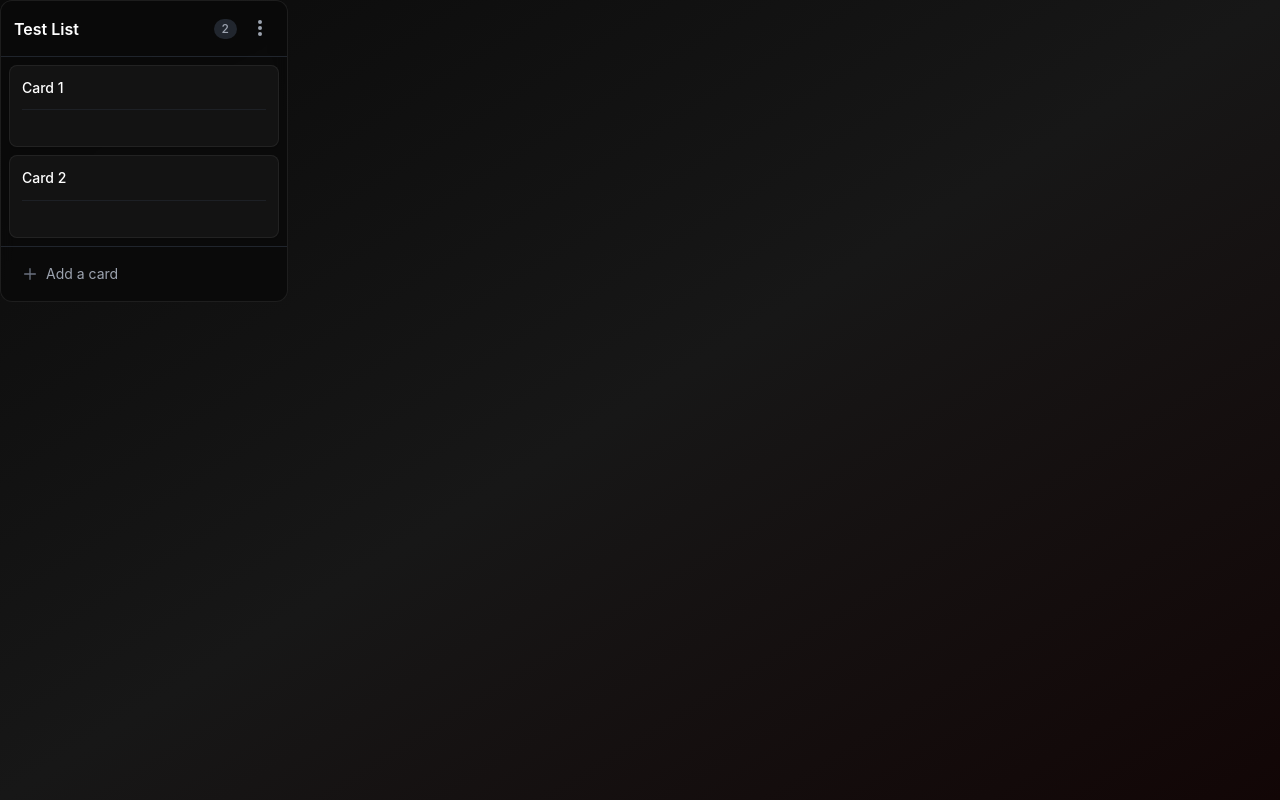
Scenario: ListColumn › should show menu when clicking menu button
Click the button named "list options": (260, 28) [245,13,275,43]
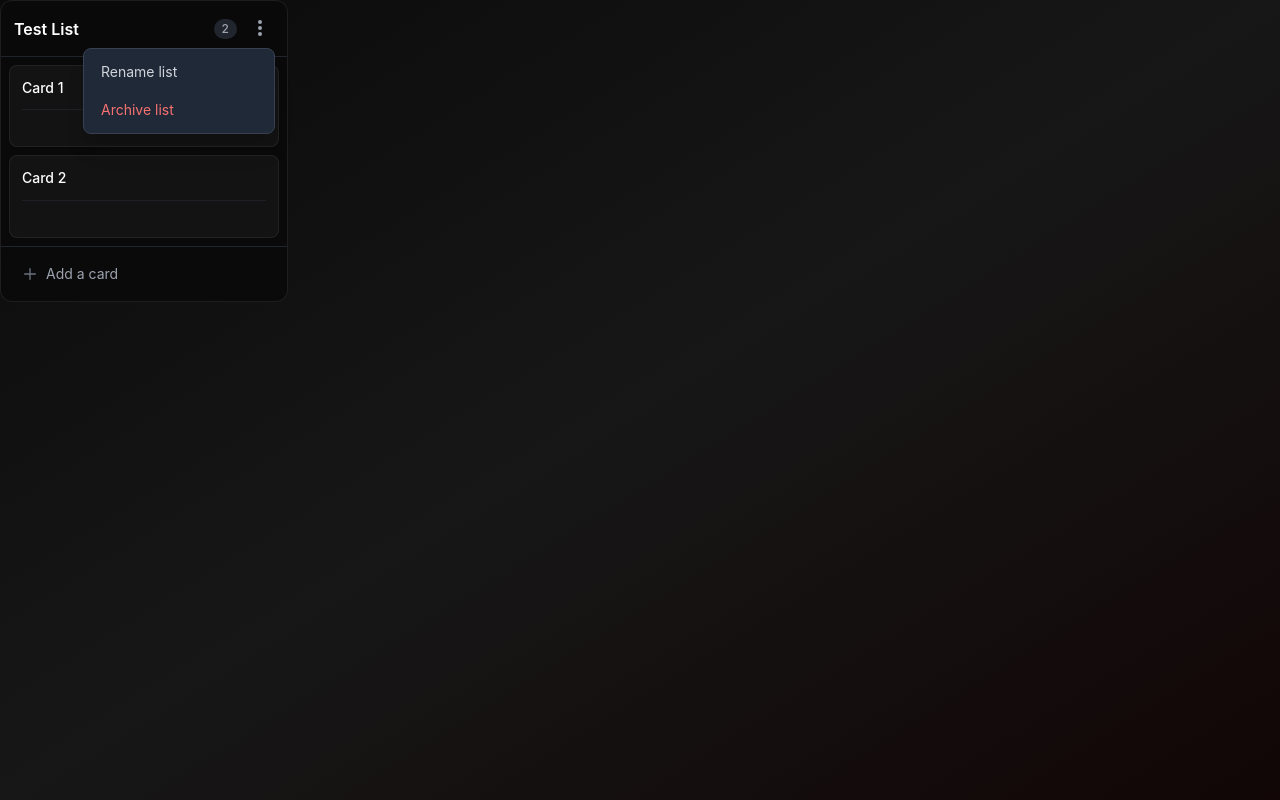
expect the menu item "Rename list" is shown: met, box [84,53,274,91]
expect the menu item "Archive list" is shown: met, box [84,91,274,129]
